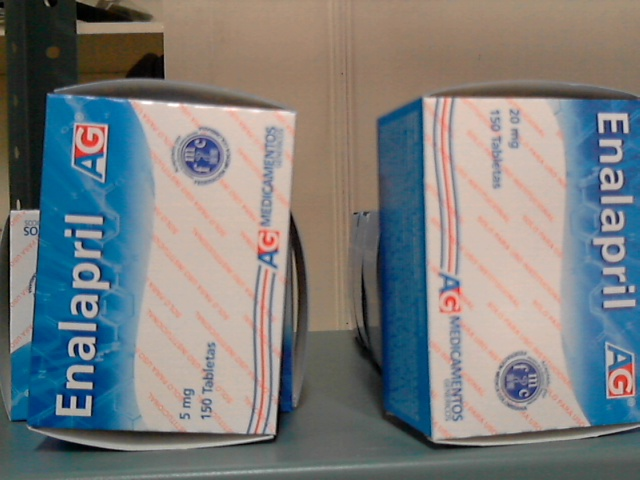AG: (28, 98, 295, 434), (420, 96, 640, 437)
